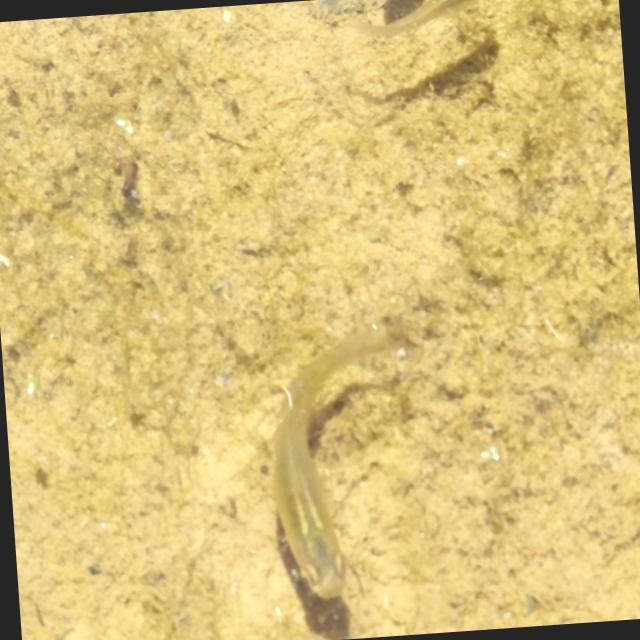Sivrisinek Baligi: (242, 306, 432, 606), (354, 0, 496, 51)
